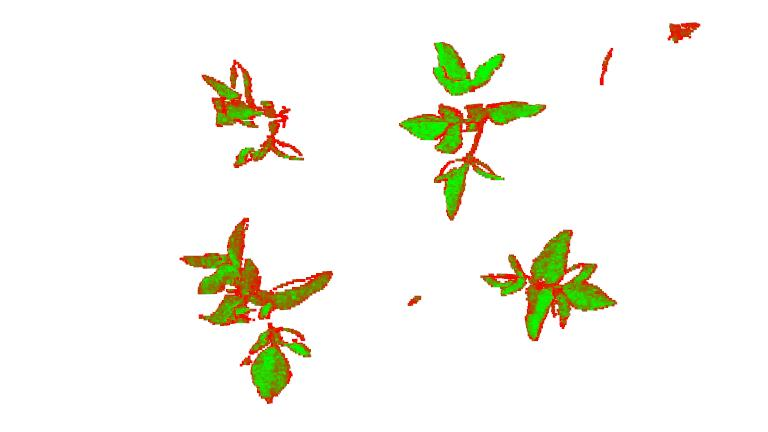mungbean: (180, 210, 333, 410), (400, 28, 551, 222), (480, 228, 618, 345), (192, 52, 304, 175)
